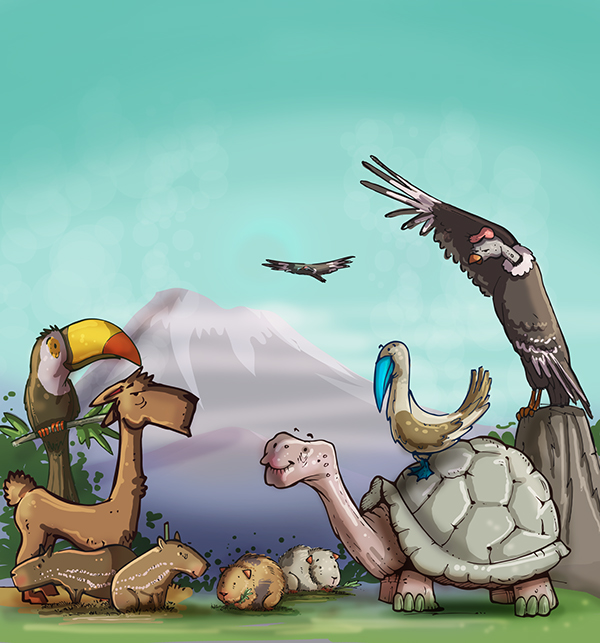bird: (350, 150, 600, 400), (360, 350, 490, 470)
